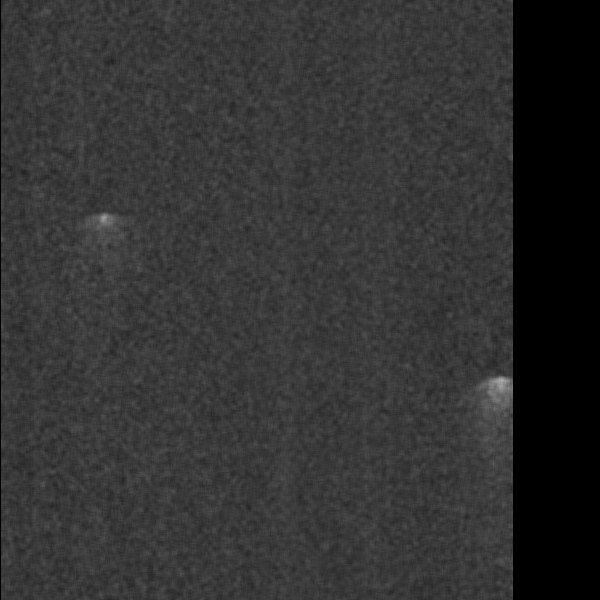spark: (338, 211, 393, 306), (442, 280, 509, 353), (1, 62, 22, 190)
